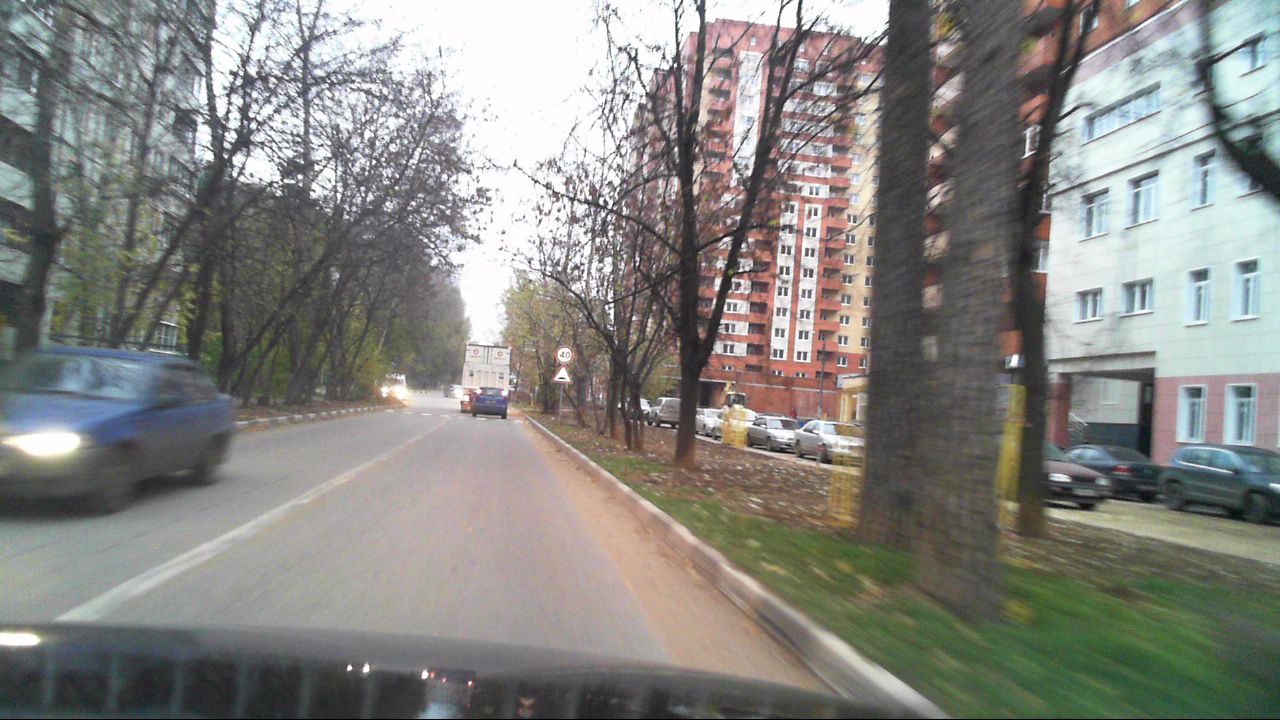speed_warning_40: (555, 345, 572, 362)
